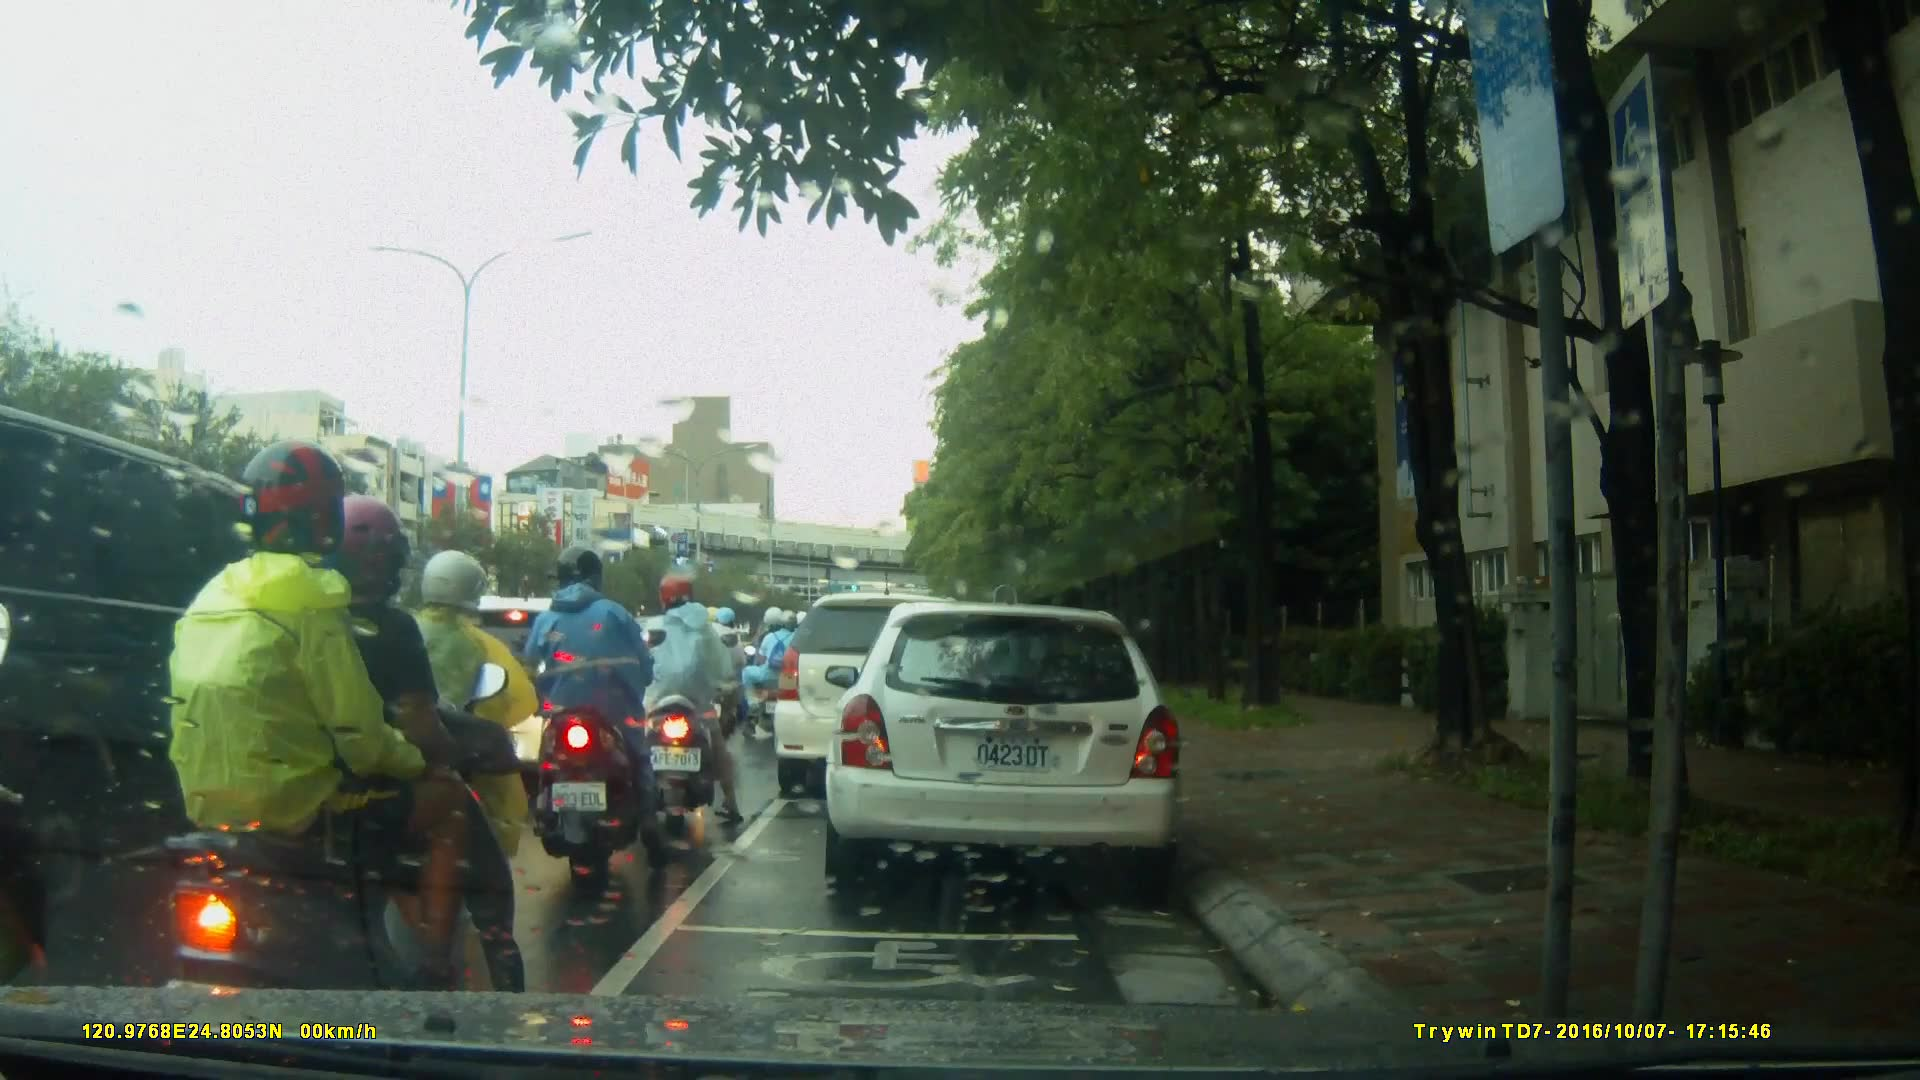rider: (164, 444, 547, 1065), (335, 547, 545, 959), (525, 552, 665, 873), (631, 575, 746, 816), (702, 603, 754, 736)
vehicle: (1, 399, 396, 984), (822, 604, 1188, 883), (347, 588, 651, 811), (774, 595, 995, 802)
